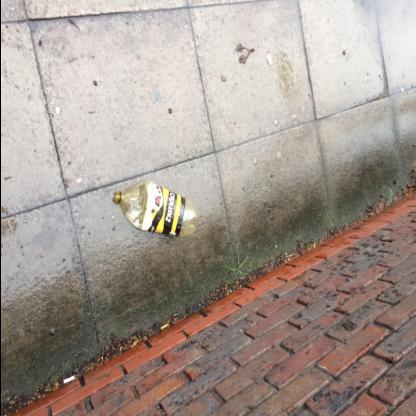plastik: (113, 181, 197, 241)
